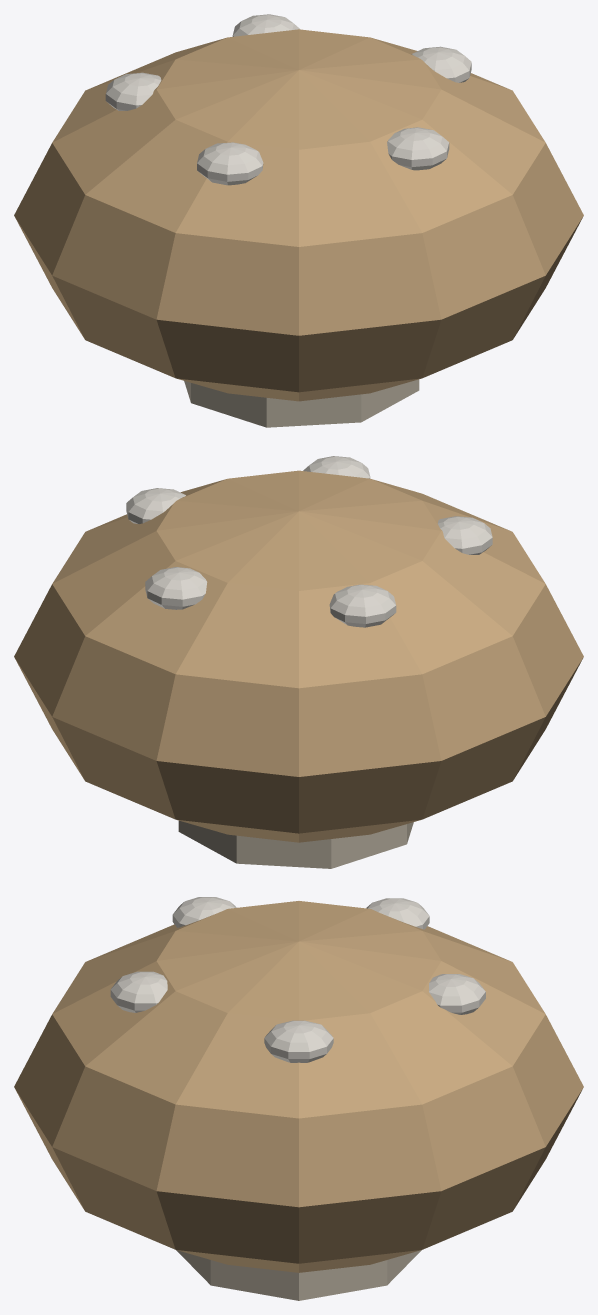
File: MushroomBread.fbx
The picture shows the model from 3 angles, top to bottom: view 1: azimuth 30°, elevation 25°; view 2: azimuth 150°, elevation 25°; view 3: azimuth 270°, elevation 25°; orthographic projection.
Visible parts, largest first — view 1: Prop_MushroomBread; view 2: Prop_MushroomBread; view 3: Prop_MushroomBread.
Boxes of the visible parts, box(x1,y1,x2,y2) form: Prop_MushroomBread: box(14, 14, 583, 427); Prop_MushroomBread: box(14, 456, 583, 868); Prop_MushroomBread: box(14, 897, 583, 1300).
Bounding box in the file's own units: 0.32 × 0.19 × 0.32.
